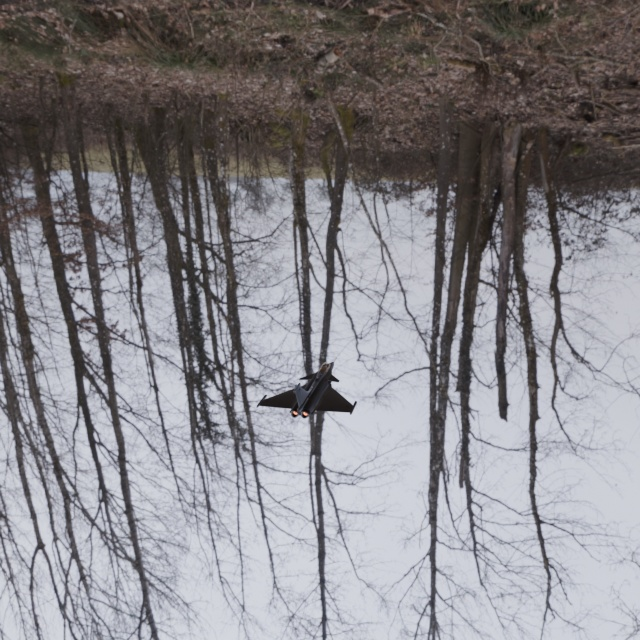dassault_rafale: (244, 330, 375, 431)
